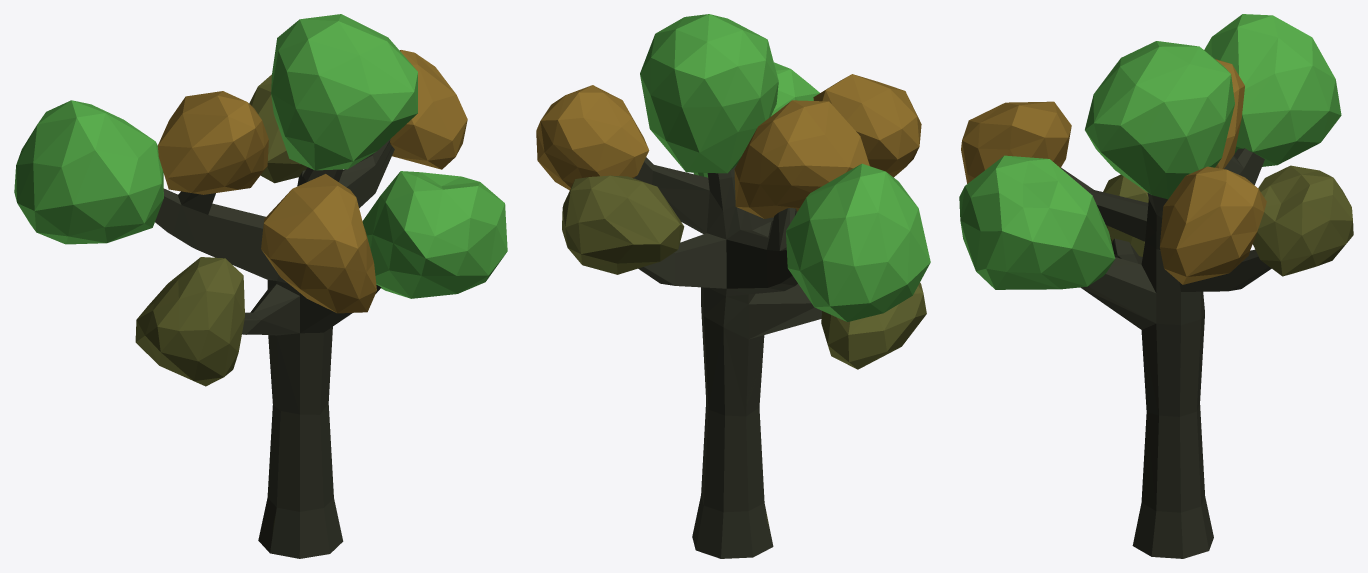
File: normal_tree.fbx
The picture shows the model from 3 angles, left to right: view 1: azimuth 30°, elevation 25°; view 2: azimuth 150°, elevation 25°; view 3: azimuth 270°, elevation 25°; orthographic projection.
Parts seen in each view (by area): view 1: Arbre_Normal_Cylinder_002; view 2: Arbre_Normal_Cylinder_002; view 3: Arbre_Normal_Cylinder_002.
Boxes of the visible parts, x1=… form: Arbre_Normal_Cylinder_002: x1=14, y1=14, x2=507, y2=558; Arbre_Normal_Cylinder_002: x1=536, y1=14, x2=930, y2=558; Arbre_Normal_Cylinder_002: x1=959, y1=14, x2=1353, y2=558.
Size of the model in its own units: 26.1 by 32.16 by 22.55.
Materials: 1 (1 with a texture image).
